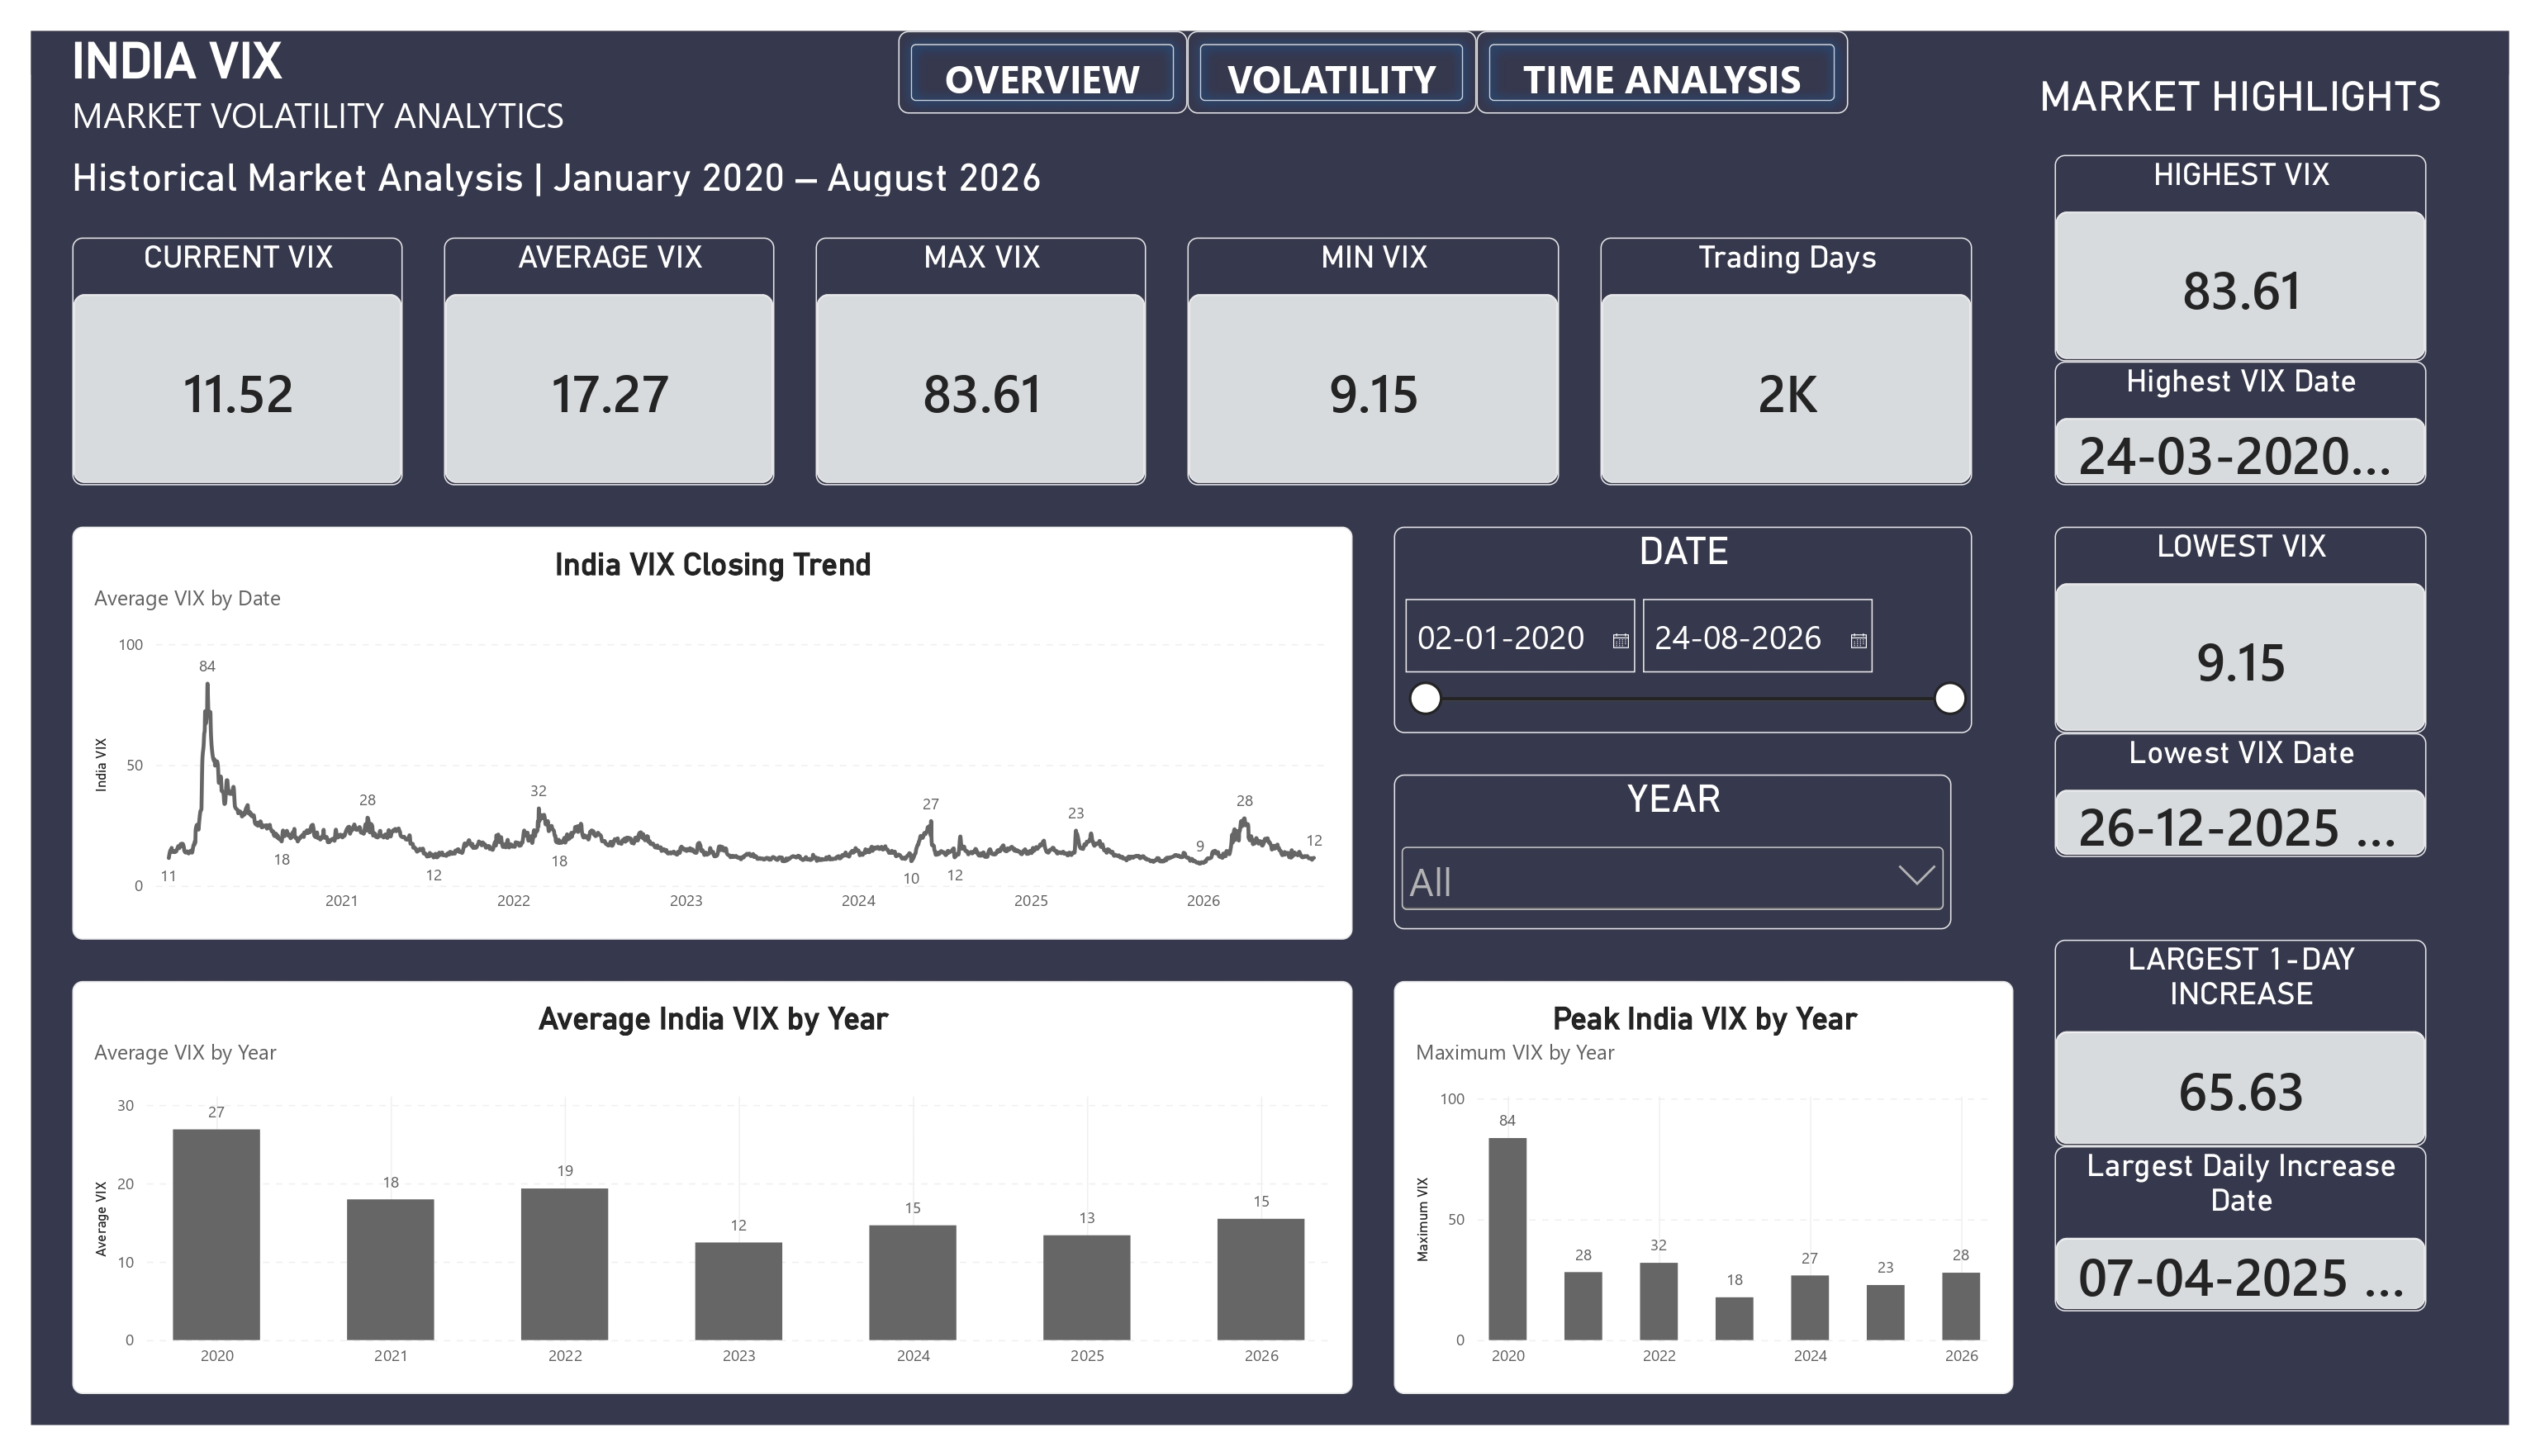

This screenshot's page, from the dashboard's own definition file:
{"tool":"powerbi","page":{"name":"01_Executive Overview","canvas":[1920,1080],"ordinal":0},"visuals":[{"type":"textbox","title":"INDIA VIX","box":[32,0,1888,96],"z":0},{"type":"textbox","title":"Historical Market Analysis | January 2020 – August 2026","box":[32,96,1888,32],"z":1000},{"type":"cardVisual","title":"CURRENT VIX","fields":{"Data":["IndiaVIX_Cleaned.Current VIX"]},"box":[32,160,256,192],"z":2000},{"type":"cardVisual","title":"AVERAGE VIX","fields":{"Data":["IndiaVIX_Cleaned.Average VIX"]},"box":[320,160,256,192],"z":3000},{"type":"cardVisual","title":"MAX VIX","fields":{"Data":["IndiaVIX_Cleaned.Maximum VIX"]},"box":[608,160,256,192],"z":4000},{"type":"cardVisual","title":"MIN VIX","fields":{"Data":["IndiaVIX_Cleaned.Minimum VIX"]},"box":[896,160,288,192],"z":5000},{"type":"cardVisual","title":"Trading Days","fields":{"Data":["IndiaVIX_Cleaned.Trading Days"]},"box":[1216,160,288,192],"z":6000},{"type":"lineChart","title":"India VIX Closing Trend","fields":{"Category":["DateTable.Date"],"Y":["IndiaVIX_Cleaned.Average VIX"]},"box":[32,384,992,320],"z":7000},{"type":"slicer","title":"DATE","fields":{"Values":["DateTable.Date"]},"box":[1056,384,448,160],"z":8000},{"type":"slicer","title":"YEAR","fields":{"Values":["DateTable.Year"]},"box":[1056,576,432,120],"z":9000},{"type":"clusteredColumnChart","title":"Average India VIX by Year","fields":{"Category":["DateTable.Year"],"Y":["IndiaVIX_Cleaned.Average VIX"]},"box":[32,736,992,320],"z":10000},{"type":"clusteredColumnChart","title":"Peak India VIX by Year","fields":{"Category":["DateTable.Year"],"Y":["IndiaVIX_Cleaned.Maximum VIX"]},"box":[1056,736,480,320],"z":11000},{"type":"cardVisual","title":"Highest VIX Date","fields":{"Data":["IndiaVIX_Cleaned.Highest VIX Date"]},"box":[1568,256,288,96],"z":12000},{"type":"cardVisual","title":"Lowest VIX Date   ","fields":{"Data":["IndiaVIX_Cleaned.Lowest VIX Date"]},"box":[1568,544,288,96],"z":13000},{"type":"cardVisual","title":"Largest Daily Increase Date","fields":{"Data":["IndiaVIX_Cleaned.Largest Daily Increase Date"]},"box":[1568,864,288,128],"z":14000},{"type":"textbox","title":"MARKET HIGHLIGHTS","box":[1504,32,416,32],"z":15000},{"type":"cardVisual","title":"HIGHEST VIX","fields":{"Data":["IndiaVIX_Cleaned.Maximum VIX"]},"box":[1568,96,288,160],"z":16000},{"type":"cardVisual","title":"LOWEST VIX","fields":{"Data":["IndiaVIX_Cleaned.Minimum VIX"]},"box":[1568,384,288,160],"z":17000},{"type":"cardVisual","title":"LARGEST 1-DAY INCREASE","fields":{"Data":["IndiaVIX_Cleaned.Maximum Daily Increase"]},"box":[1568,704,288,160],"z":18000},{"type":"textbox","box":[100,100,300,300],"z":19000},{"type":"actionButton","box":[672,0,224,64],"z":19001},{"type":"actionButton","box":[896,0,224,64],"z":19002},{"type":"actionButton","box":[1120,0,288,64],"z":19003}]}

Visuals, with their boxes on the page's 1920x1080 design canvas (x1, y1, x2, y2). These are canvas units, not pixel positions in the 2540x1456 screenshot, which may show the page scaled, cropped or inside an application window:
"INDIA VIX" textbox: select_region(32, 0, 1920, 96)
"Historical Market Analysis | January 2020 – August 2026" textbox: select_region(32, 96, 1920, 128)
"CURRENT VIX" cardVisual: select_region(32, 160, 288, 352)
"AVERAGE VIX" cardVisual: select_region(320, 160, 576, 352)
"MAX VIX" cardVisual: select_region(608, 160, 864, 352)
"MIN VIX" cardVisual: select_region(896, 160, 1184, 352)
"Trading Days" cardVisual: select_region(1216, 160, 1504, 352)
"India VIX Closing Trend" lineChart: select_region(32, 384, 1024, 704)
"DATE" slicer: select_region(1056, 384, 1504, 544)
"YEAR" slicer: select_region(1056, 576, 1488, 696)
"Average India VIX by Year" clusteredColumnChart: select_region(32, 736, 1024, 1056)
"Peak India VIX by Year" clusteredColumnChart: select_region(1056, 736, 1536, 1056)
"Highest VIX Date" cardVisual: select_region(1568, 256, 1856, 352)
"Lowest VIX Date   " cardVisual: select_region(1568, 544, 1856, 640)
"Largest Daily Increase Date" cardVisual: select_region(1568, 864, 1856, 992)
"MARKET HIGHLIGHTS" textbox: select_region(1504, 32, 1920, 64)
"HIGHEST VIX" cardVisual: select_region(1568, 96, 1856, 256)
"LOWEST VIX" cardVisual: select_region(1568, 384, 1856, 544)
"LARGEST 1-DAY INCREASE" cardVisual: select_region(1568, 704, 1856, 864)
textbox: select_region(100, 100, 400, 400)
actionButton: select_region(672, 0, 896, 64)
actionButton: select_region(896, 0, 1120, 64)
actionButton: select_region(1120, 0, 1408, 64)
